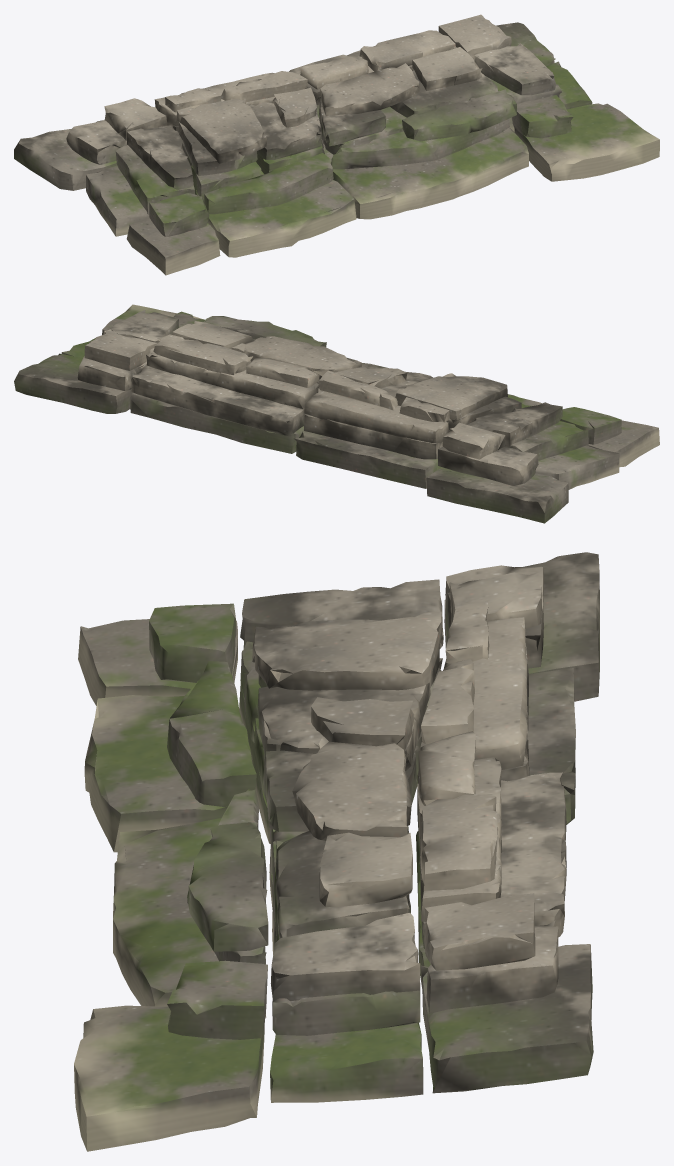
The model's file is BeachRock_A.gltf.
The picture shows the model from 3 angles, top to bottom: view 1: azimuth 30°, elevation 25°; view 2: azimuth 150°, elevation 25°; view 3: azimuth 270°, elevation 25°; orthographic projection. The views are drawn at different scales.
Visible parts, largest first — view 1: BeachRock_A; view 2: BeachRock_A; view 3: BeachRock_A.
Part boxes in pixels (x1,y1,x2,y2): BeachRock_A: (14,14,659,275); BeachRock_A: (14,304,659,523); BeachRock_A: (74,552,599,1151).
Size of the model in its own units: 6.27 by 0.9883 by 2.76.
Materials: 1 (1 with a texture image).
